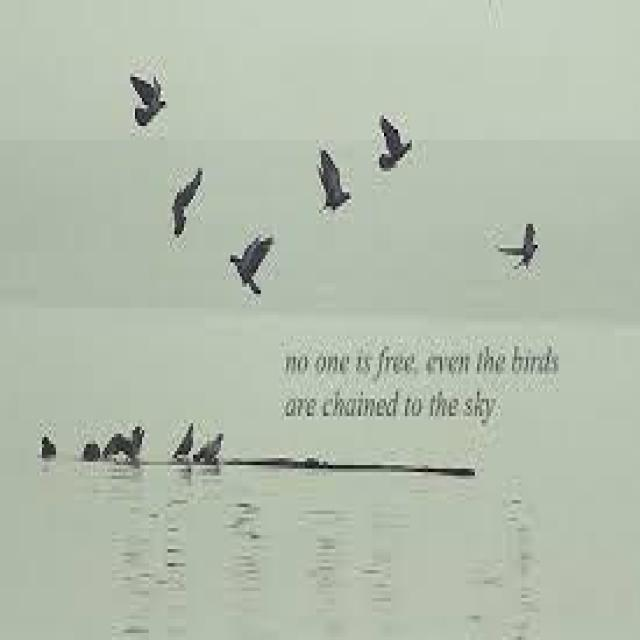bird: (229, 230, 273, 300), (316, 146, 352, 214), (496, 220, 540, 272), (172, 168, 202, 236), (378, 116, 414, 170), (132, 68, 165, 125)
